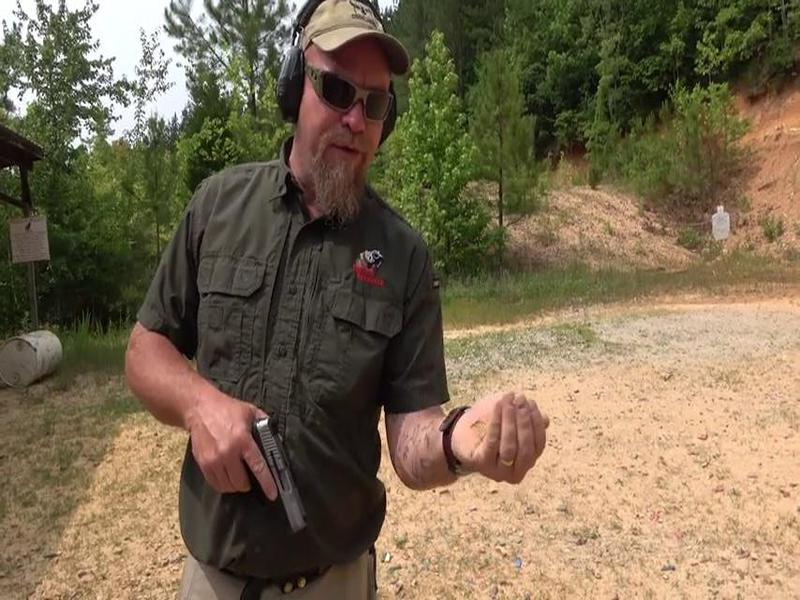Pistola: (228, 402, 317, 539)
